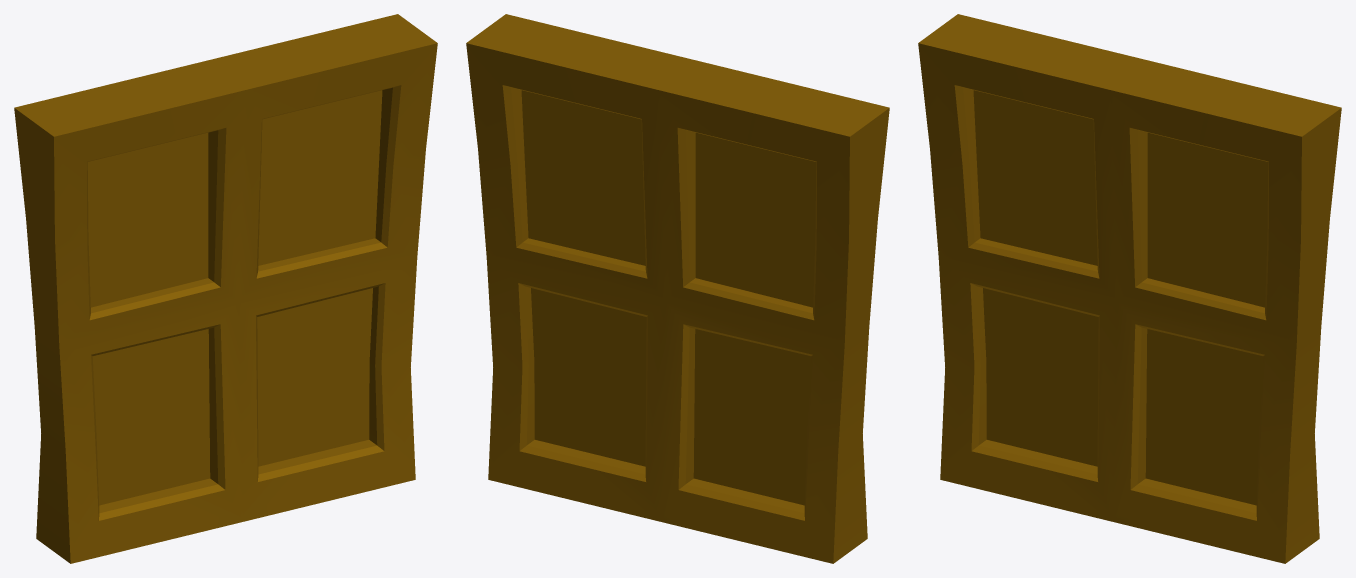
The model's file is ventana.fbx.
3 views of the same model, side by side, from view 1: azimuth 30°, elevation 25°; view 2: azimuth 150°, elevation 25°; view 3: azimuth 330°, elevation 25° (orthographic).
Parts seen in each view (by area): view 1: polySurface2; view 2: polySurface2; view 3: polySurface2.
Boxes of the visible parts, x1,y1,x2,y2 form: polySurface2: [14, 14, 437, 563]; polySurface2: [466, 14, 889, 563]; polySurface2: [918, 14, 1341, 563].
Bounding box in the file's own units: 94.94 × 103 × 17.06.
